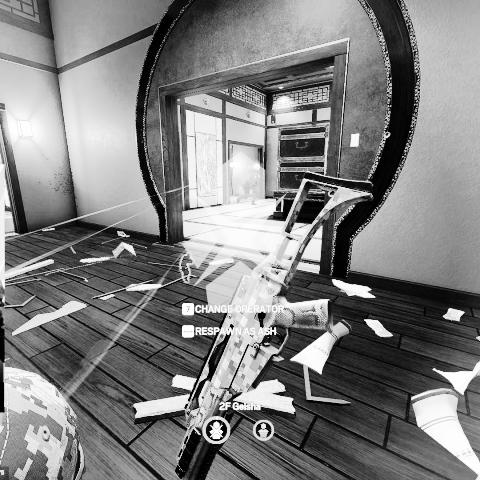Character: (236, 162, 263, 206)
Head: (253, 163, 260, 172)
